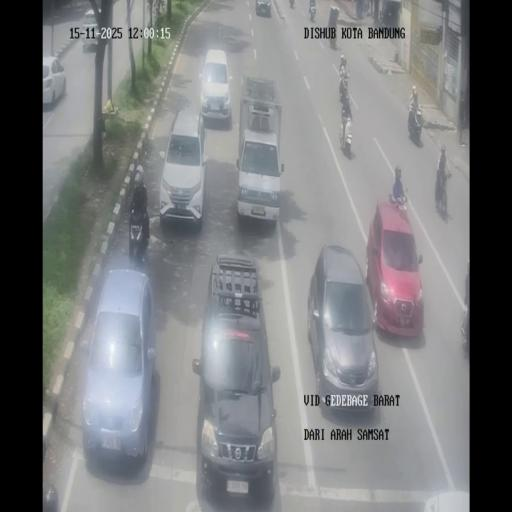car: (194, 252, 280, 503), (82, 267, 157, 469), (306, 247, 378, 414), (366, 202, 423, 336), (159, 106, 208, 229), (199, 48, 233, 127), (42, 56, 66, 106), (81, 10, 102, 52), (255, 0, 271, 17)
motorcycle: (128, 210, 149, 265), (435, 168, 451, 216), (408, 101, 423, 143), (461, 300, 469, 359), (340, 114, 352, 152), (339, 74, 350, 104), (330, 24, 338, 49), (309, 3, 316, 22), (339, 54, 346, 72), (363, 1, 370, 17), (379, 9, 384, 22), (289, 0, 295, 9)
truck: (236, 74, 283, 227)
